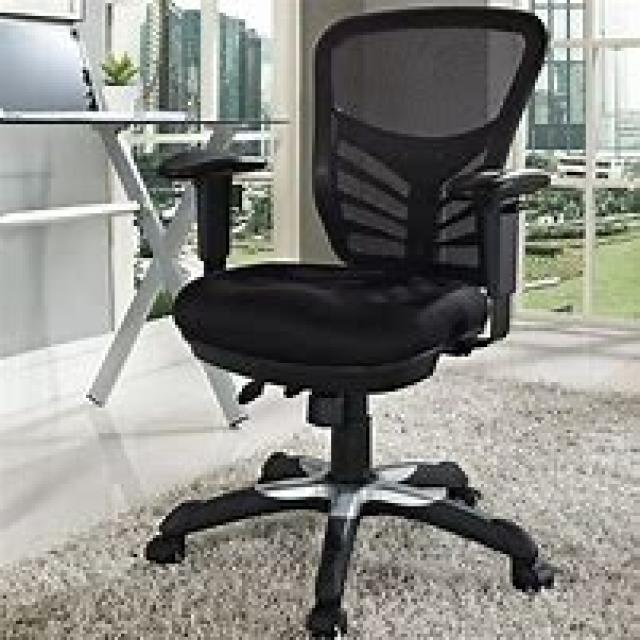chair: (143, 3, 557, 637)
